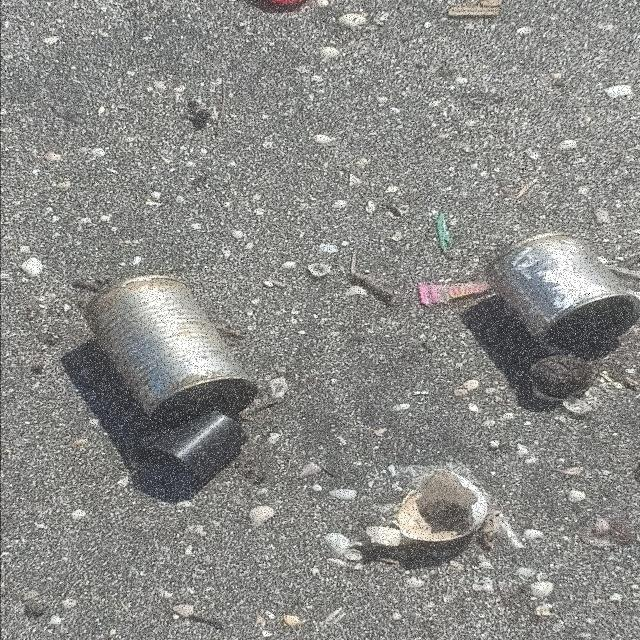metal_waste: (87, 273, 264, 434), (480, 234, 638, 357)
